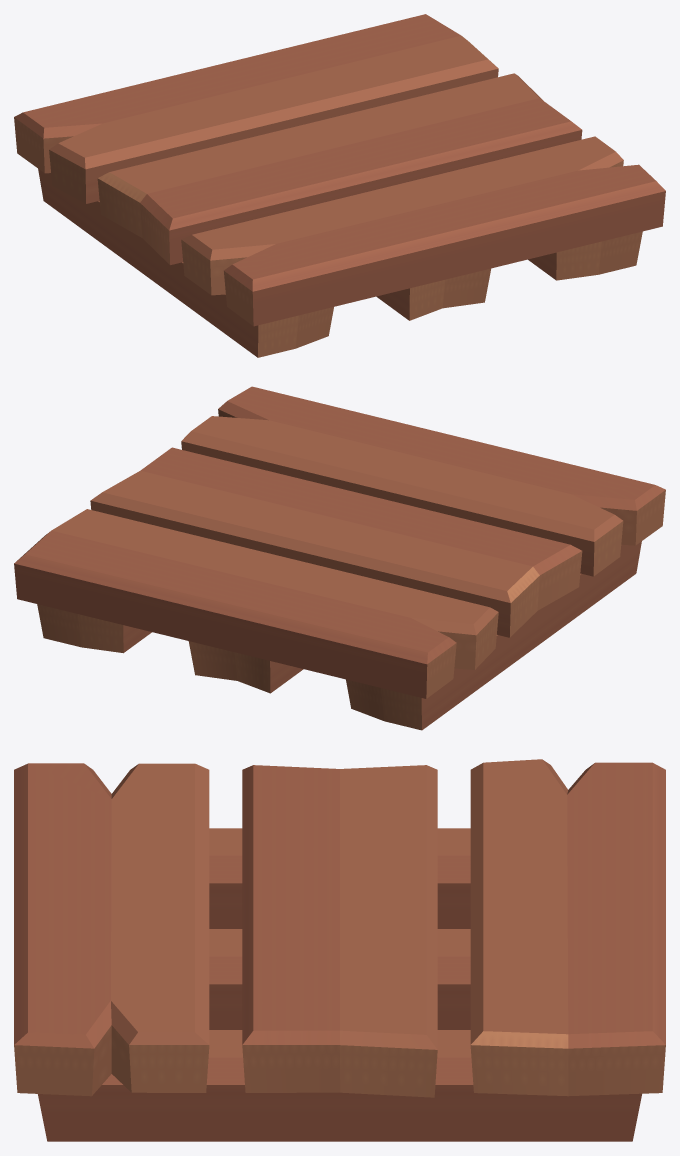
Rendered from pallet-wood.glb.
3 views of the same model, one above another, from view 1: azimuth 30°, elevation 25°; view 2: azimuth 150°, elevation 25°; view 3: azimuth 270°, elevation 25° (orthographic). The views are drawn at different scales.
Parts seen in each view (by area): view 1: Pallet_Wood; view 2: Pallet_Wood; view 3: Pallet_Wood.
Part boxes in pixels (bbox=[...]): Pallet_Wood: bbox=[14, 14, 665, 357]; Pallet_Wood: bbox=[14, 386, 665, 730]; Pallet_Wood: bbox=[14, 759, 665, 1141].
Bounding box in the file's own units: 1.55 × 0.3 × 1.5.
Materials: 1 (1 with a texture image).
